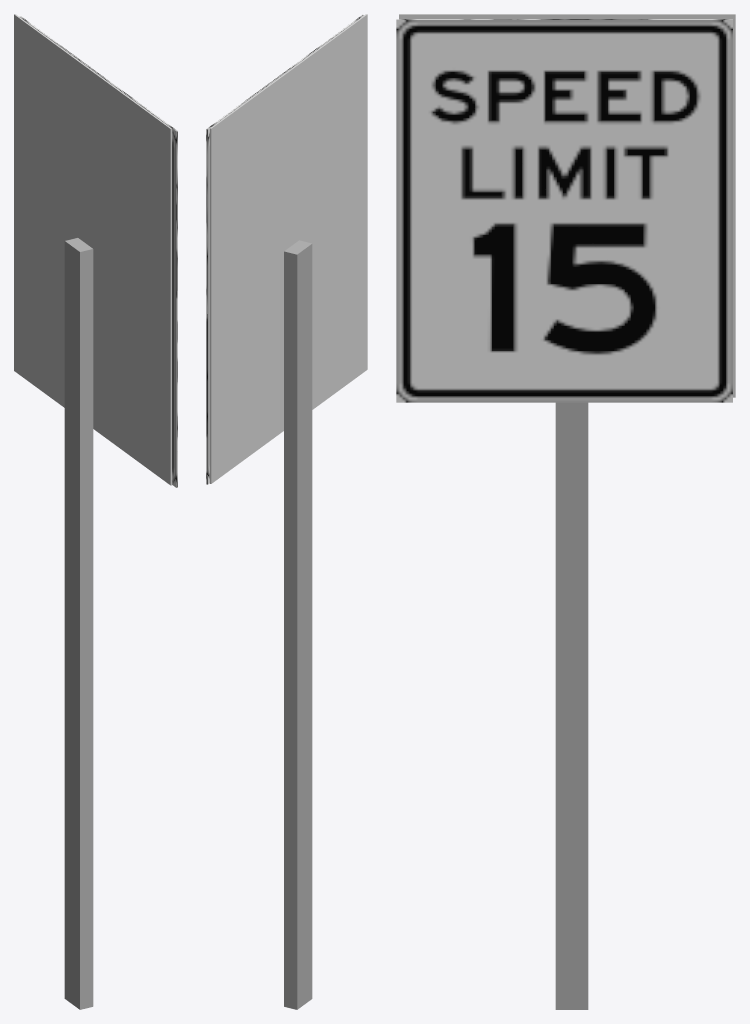
Rendered from speedlim_15.dae.
3 renders of one model, left to right at view 1: azimuth 30°, elevation 25°; view 2: azimuth 150°, elevation 25°; view 3: azimuth 270°, elevation 25°, orthographic. The views are drawn at different scales.
Visible parts, largest first — view 1: Cube_002, Cube_001, Cube; view 2: Cube_002, Cube_001, Cube; view 3: Cube, Cube_001, Cube_002.
Part boxes in pixels (left/top/right/bottom): Cube_002: left=14, top=14, right=172, bottom=485; Cube_001: left=64, top=238, right=93, bottom=1009; Cube: left=20, top=16, right=177, bottom=487; Cube_002: left=210, top=14, right=367, bottom=483; Cube_001: left=284, top=240, right=312, bottom=1009; Cube: left=206, top=14, right=363, bottom=484; Cube: left=396, top=19, right=732, bottom=402; Cube_001: left=555, top=402, right=588, bottom=1009; Cube_002: left=399, top=14, right=735, bottom=397.
Bounding box in the file's own units: 0.0799 × 0.9209 × 2.99.
